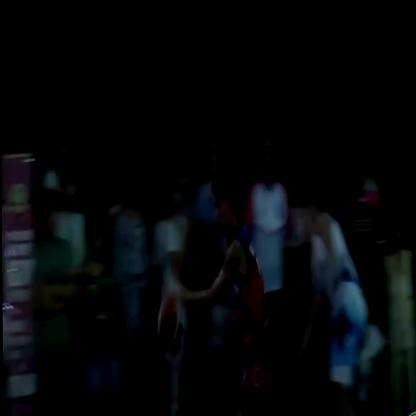basketball: (154, 284, 196, 372)
